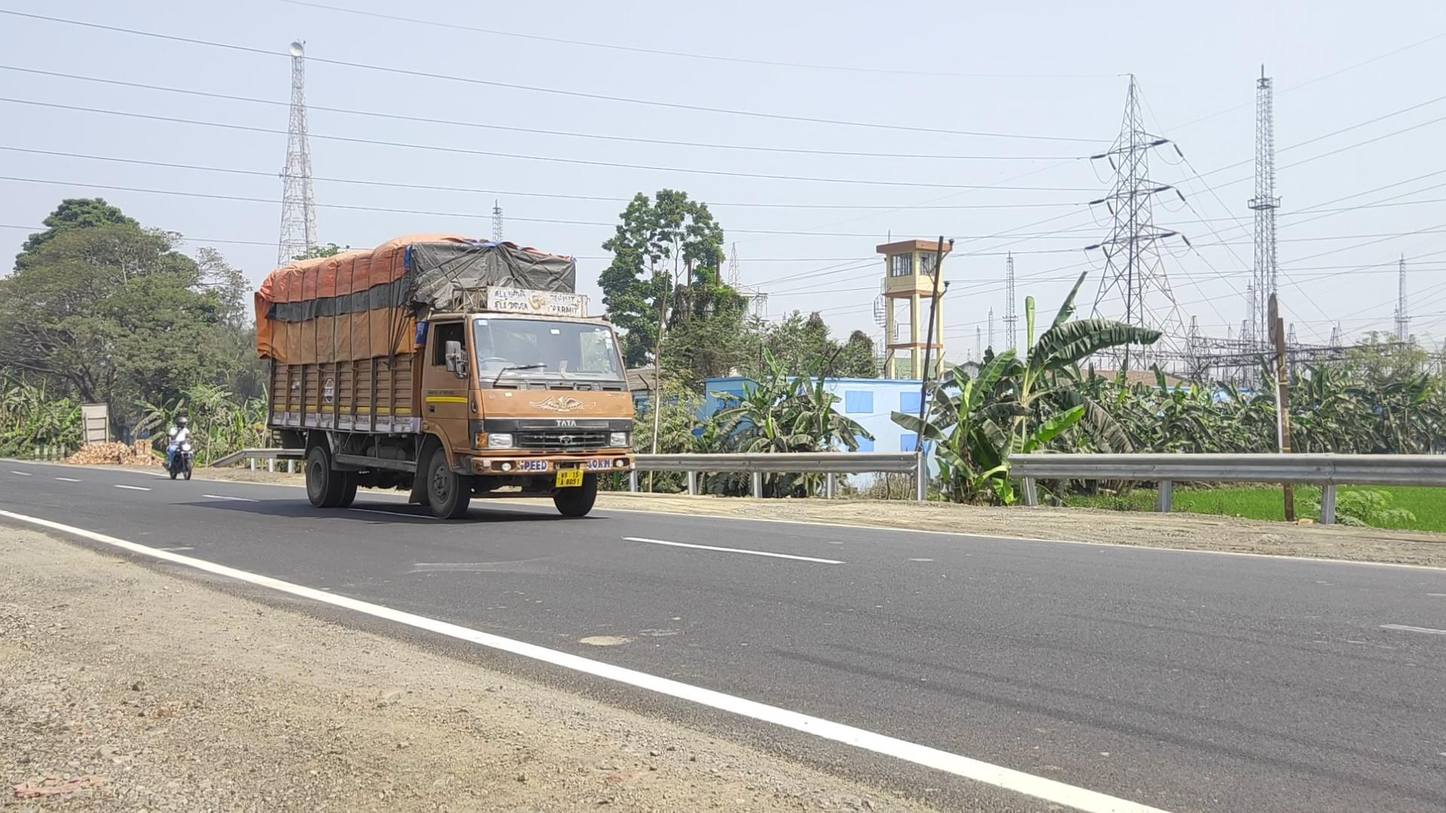bike: (165, 418, 197, 481)
truck: (258, 233, 637, 519)
